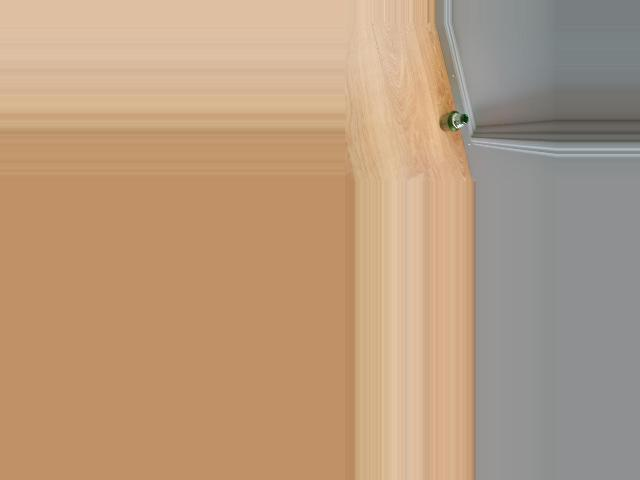beer: (439, 111, 467, 131)
